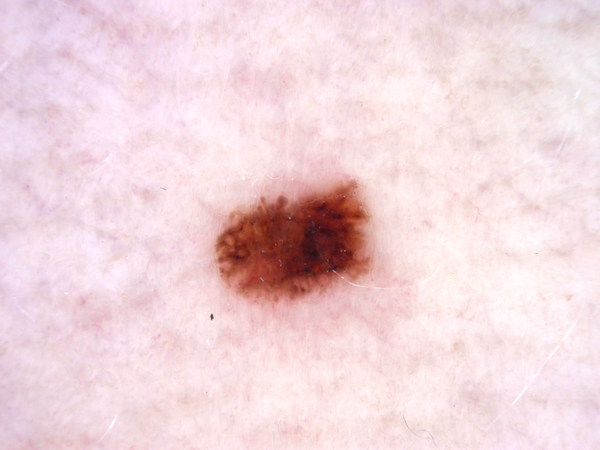Detected Lesion: (210, 179, 383, 304)
